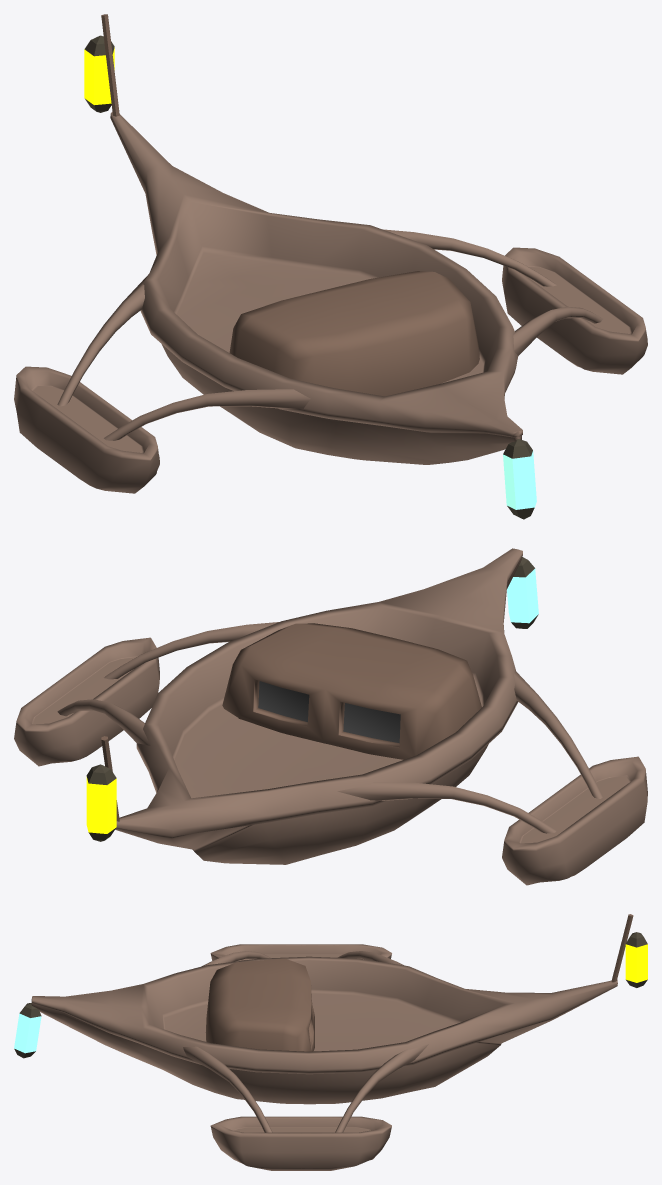
Rendered from boat_main.fbx.
3 renders of one model, top to bottom at view 1: azimuth 30°, elevation 25°; view 2: azimuth 150°, elevation 25°; view 3: azimuth 270°, elevation 25°, orthographic. The views are drawn at different scales.
Visible parts, largest first — view 1: boatMain_geo, house_geo, pCube5 (×2), pCylinder2 (×2), pCylinder1 (×2), lamp_geo2, lamp_geo1, stick_front_geo; view 2: boatMain_geo, house_geo, pCube5 (×2), pCylinder1 (×2), pCylinder2 (×2), lamp_geo1, lamp_geo2; view 3: boatMain_geo, pCube5 (×2), house_geo, pCylinder2 (×2), pCylinder1 (×2), lamp_geo1, lamp_geo2, stick_front_geo.
Part boxes in pixels (x1,y1,x2,y2): boatMain_geo: (110, 112, 522, 464); house_geo: (229, 271, 479, 396); pCube5 (×2): (14, 247, 647, 493); pCylinder2 (×2): (104, 306, 602, 440); pCylinder1 (×2): (57, 229, 556, 406); lamp_geo2: (503, 439, 536, 519); lamp_geo1: (84, 35, 114, 112); stick_front_geo: (101, 14, 119, 116); boatMain_geo: (115, 548, 522, 864); house_geo: (222, 623, 481, 759); pCube5 (×2): (14, 637, 647, 885); pCylinder1 (×2): (57, 699, 556, 833); pCylinder2 (×2): (104, 622, 602, 798); lamp_geo1: (86, 764, 116, 841); lamp_geo2: (507, 557, 538, 628); boatMain_geo: (31, 956, 617, 1104); pCube5 (×2): (210, 944, 391, 1170); house_geo: (205, 958, 314, 1051); pCylinder2 (×2): (183, 951, 272, 1132); pCylinder1 (×2): (335, 951, 428, 1132); lamp_geo1: (625, 932, 647, 987); lamp_geo2: (14, 1003, 41, 1058); stick_front_geo: (611, 914, 633, 982).
Bounding box in the file's own units: 161 × 67.46 × 222.
